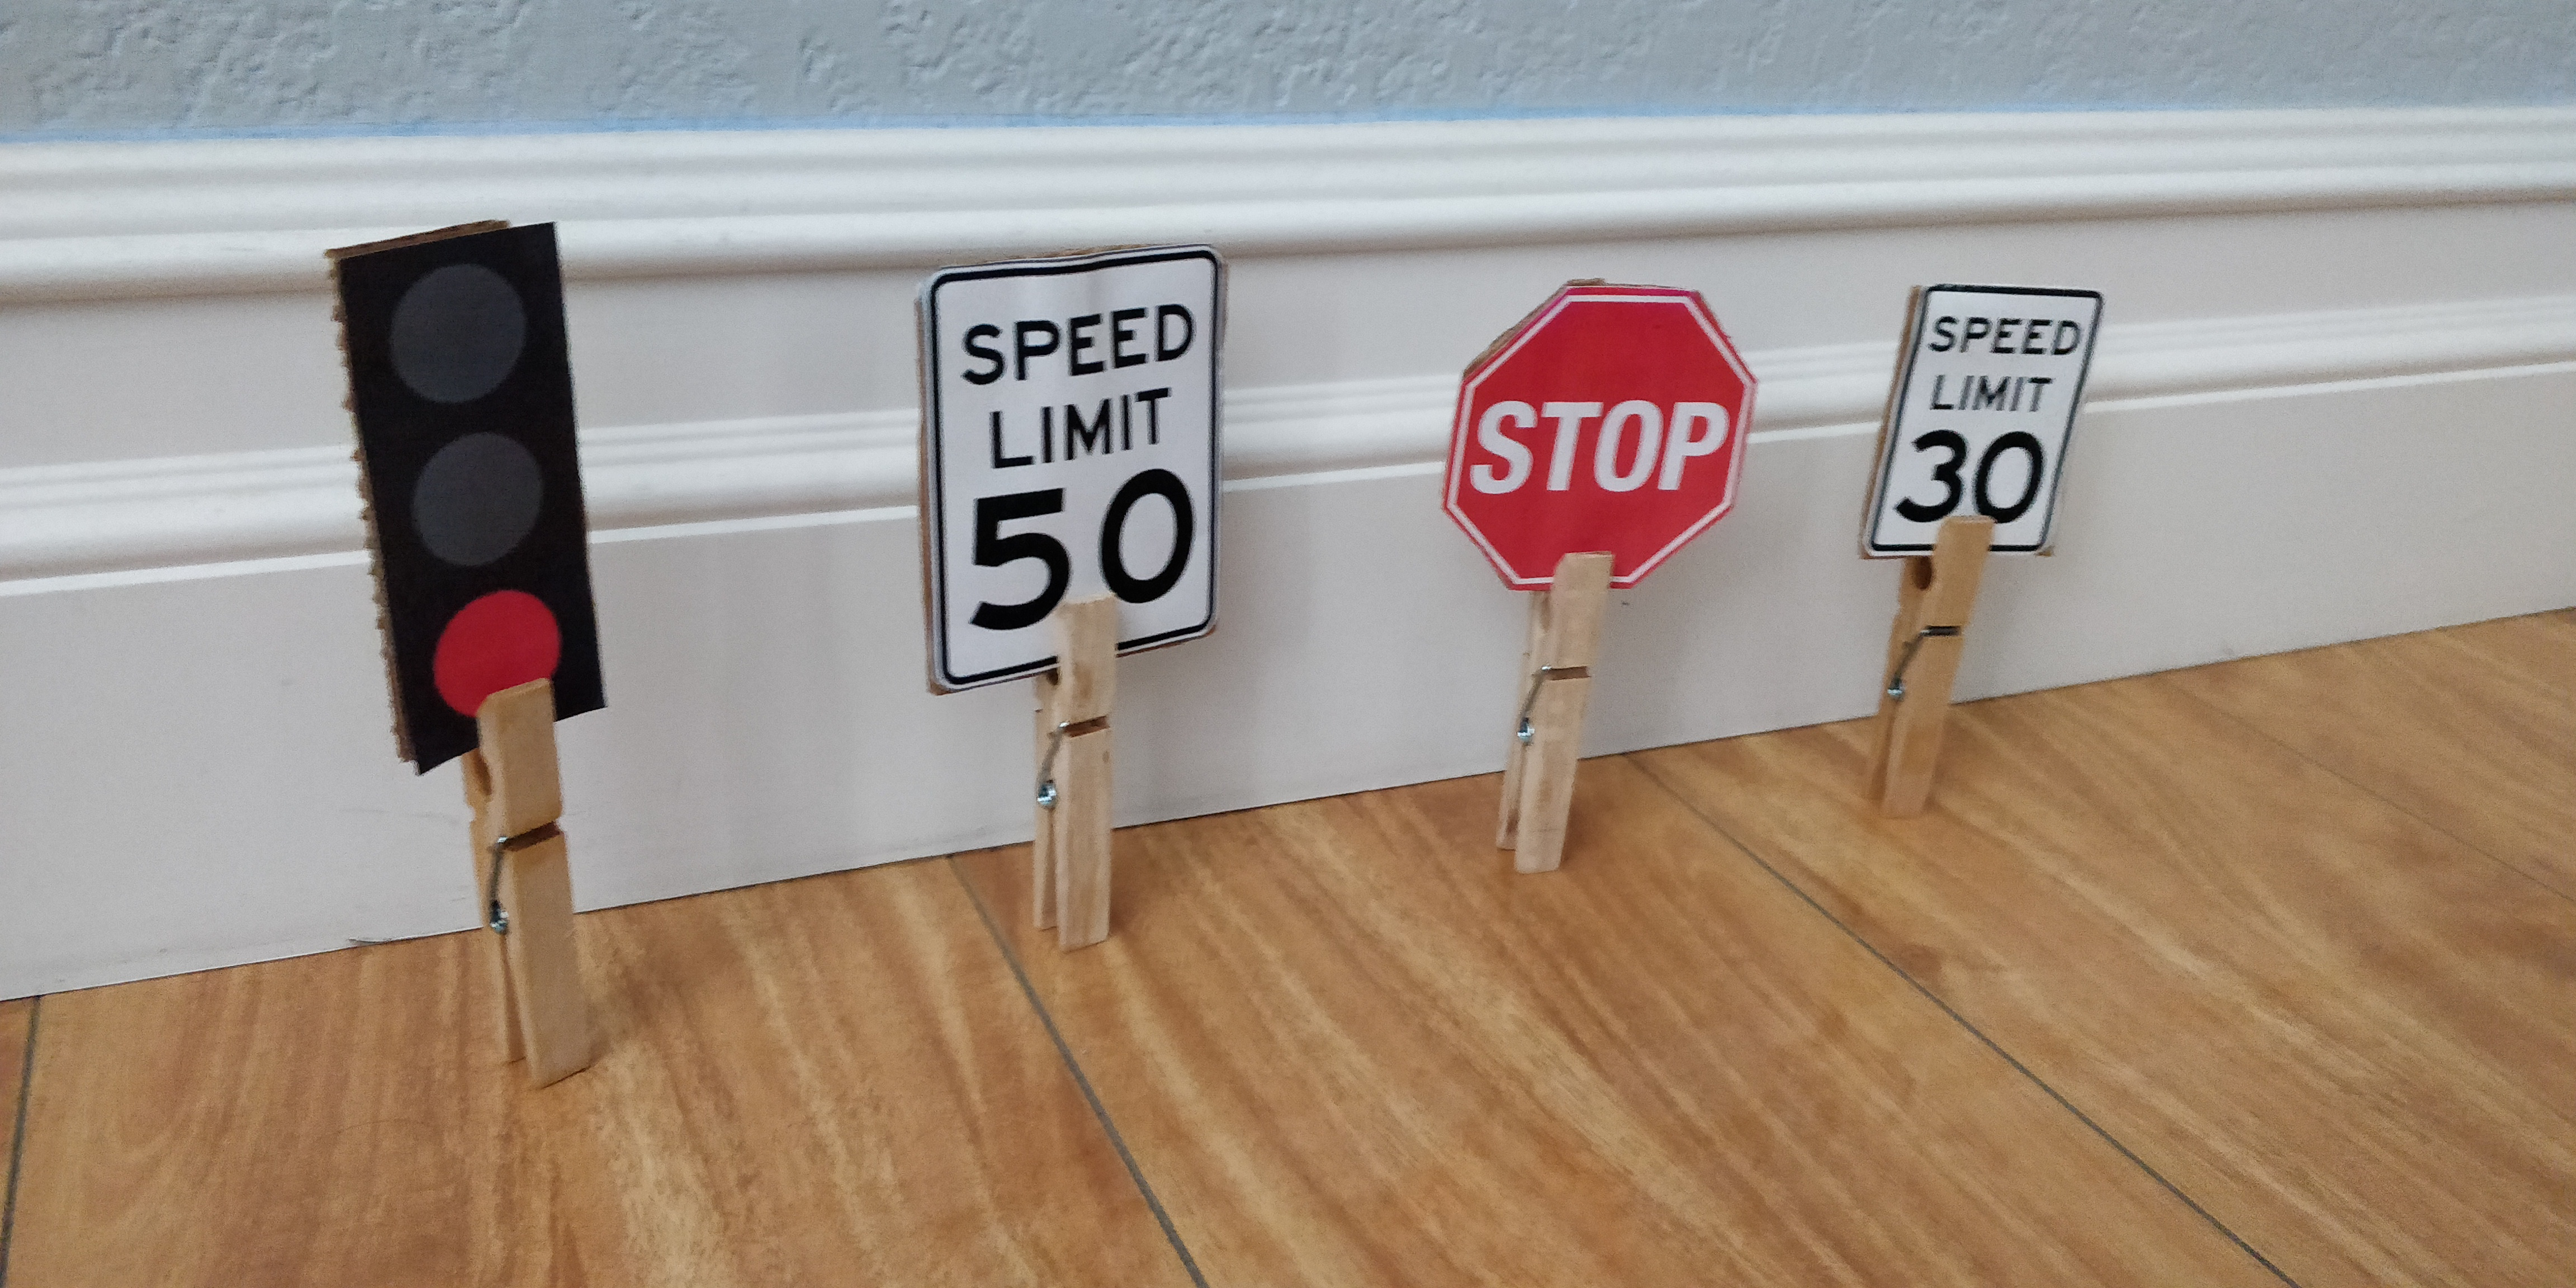Speed Limit 30: (1863, 283, 2103, 559)
Speed Limit 50: (907, 263, 1224, 698)
Stop Sign: (1442, 281, 1756, 588)
red light: (324, 217, 605, 772)
